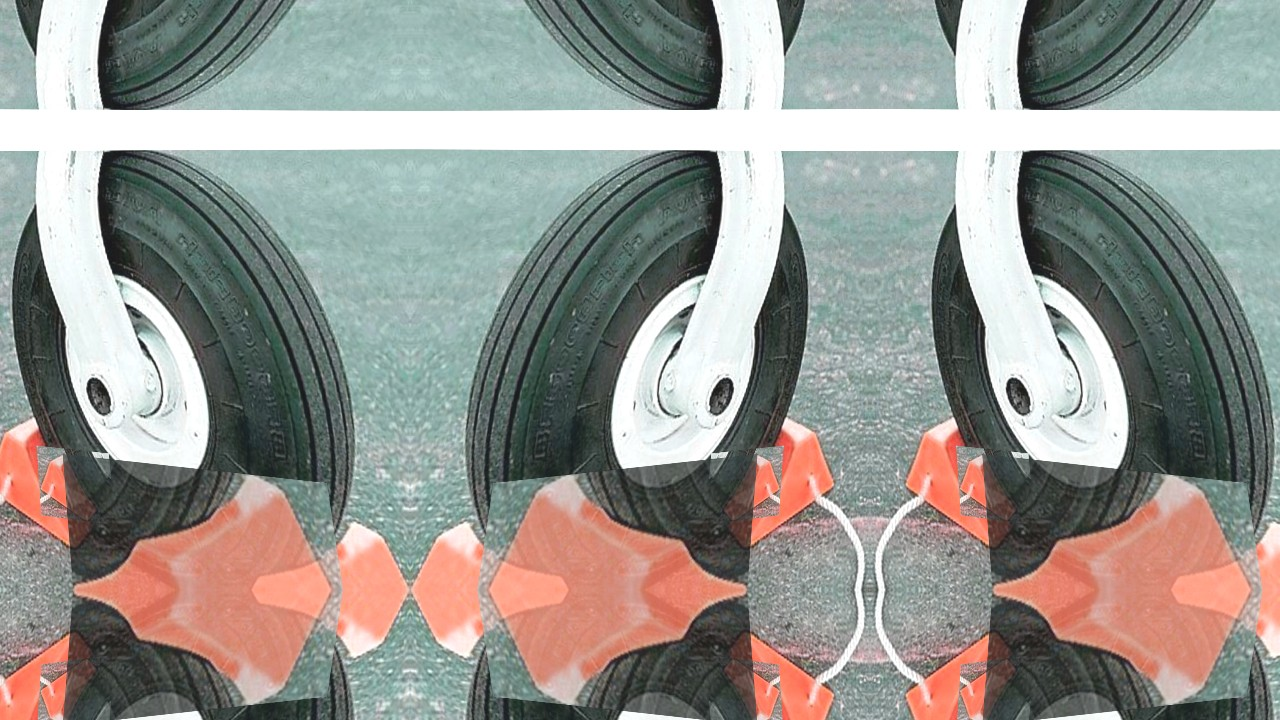chock: (62, 446, 365, 590), (455, 446, 758, 590), (982, 446, 1280, 590), (62, 590, 365, 720), (455, 590, 758, 720), (982, 590, 1280, 720), (690, 399, 841, 562), (899, 399, 1050, 562), (0, 399, 130, 562), (190, 496, 410, 590), (410, 496, 630, 590), (190, 590, 410, 684), (410, 590, 630, 684), (1110, 496, 1280, 590), (1110, 590, 1280, 684), (690, 618, 841, 720), (899, 618, 1050, 720), (0, 618, 130, 720), (36, 443, 115, 528), (705, 443, 784, 528), (956, 443, 1035, 528), (36, 652, 115, 720), (705, 652, 784, 720), (956, 652, 1035, 720)
wheel: (428, 143, 822, 590), (0, 143, 392, 590), (918, 143, 1280, 590), (428, 590, 822, 720), (0, 590, 392, 720), (918, 590, 1280, 720), (428, 0, 822, 117), (0, 0, 392, 117), (918, 0, 1280, 117)
